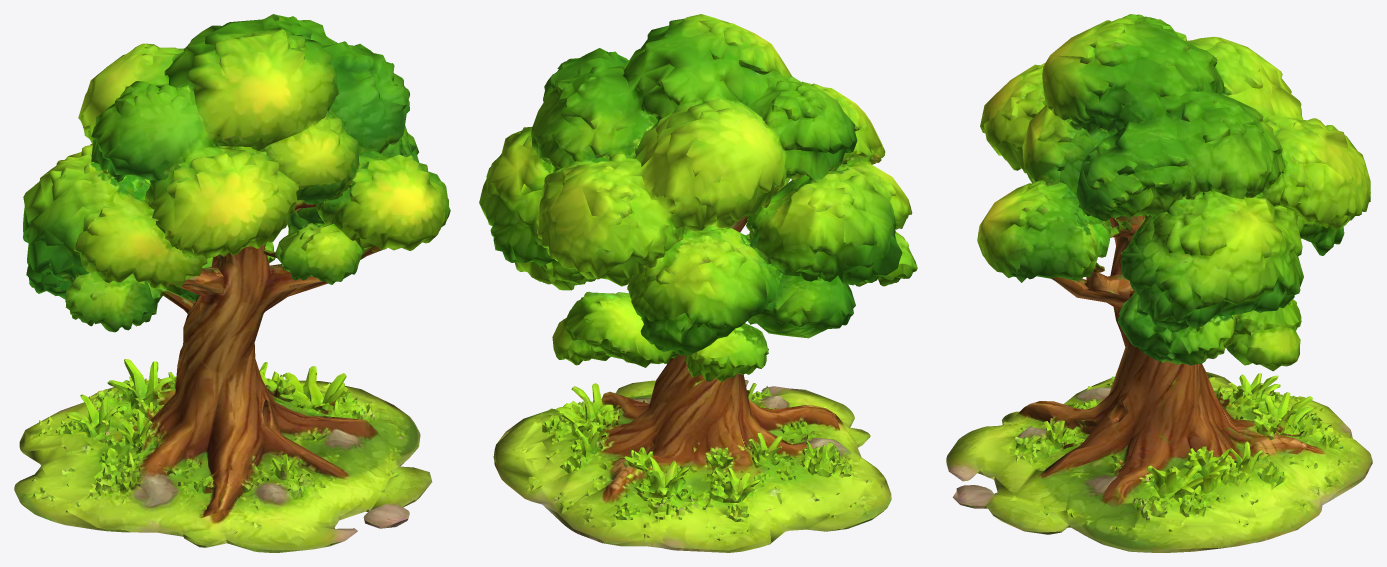
3 renders of one model, left to right at view 1: azimuth 30°, elevation 25°; view 2: azimuth 150°, elevation 25°; view 3: azimuth 270°, elevation 25°, orthographic. The views are drawn at different scales.
Parts seen in each view (by area): view 1: output; view 2: output; view 3: output.
Boxes of the visible parts, x1,y1,x2,y2 form: output: (14, 14, 450, 552); output: (479, 14, 917, 552); output: (946, 14, 1372, 552).
Size of the model in its own units: 1.79 by 1.9 by 1.66.
1 material, 1 textured.
